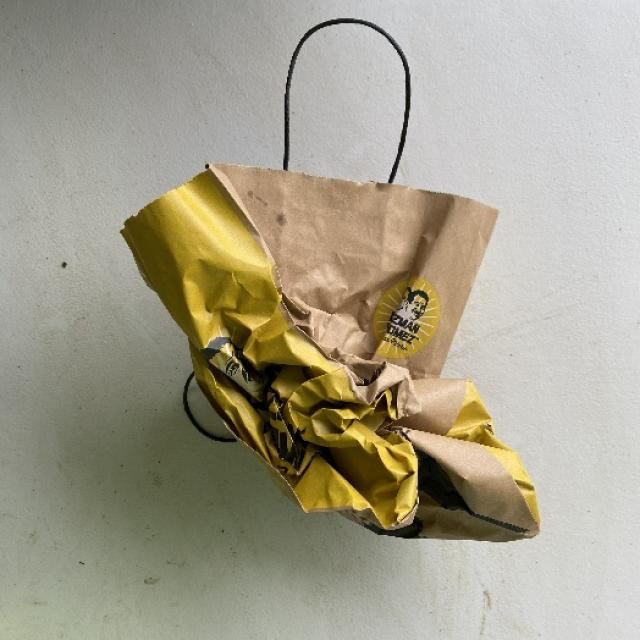paper: (118, 159, 540, 540)
